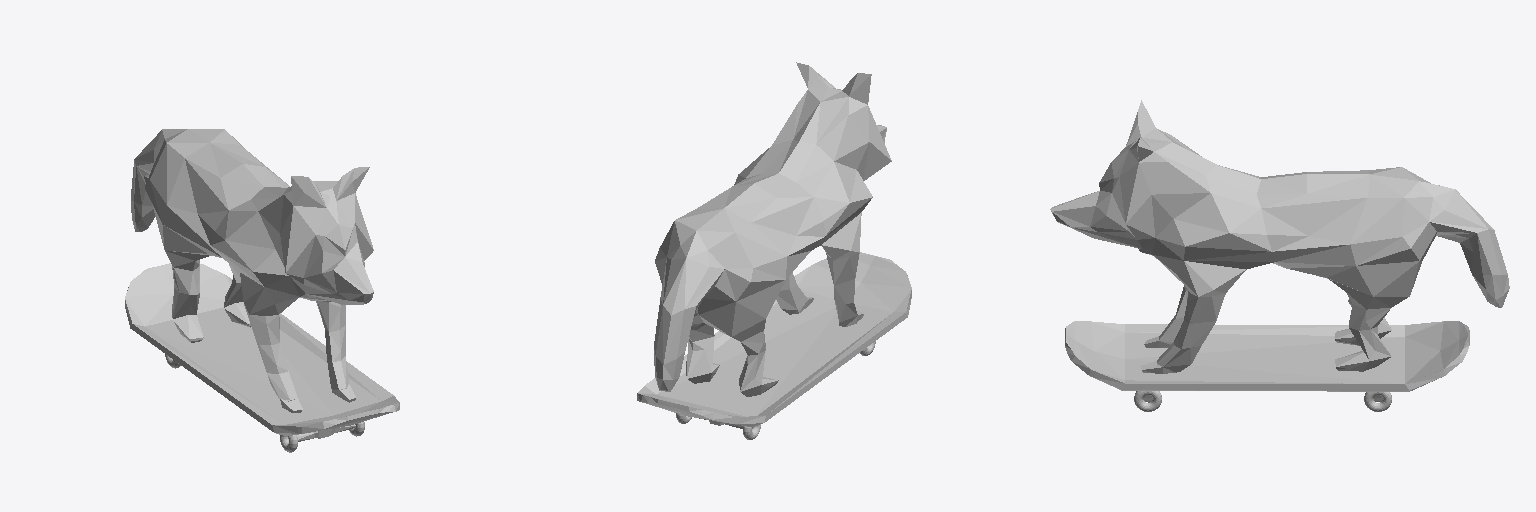
File: Fuchs23.obj
3 renders of one model, left to right at view 1: azimuth 30°, elevation 25°; view 2: azimuth 150°, elevation 25°; view 3: azimuth 270°, elevation 25°, orthographic.
Bounding box in the file's own units: 3.58 × 7.83 × 11.7.